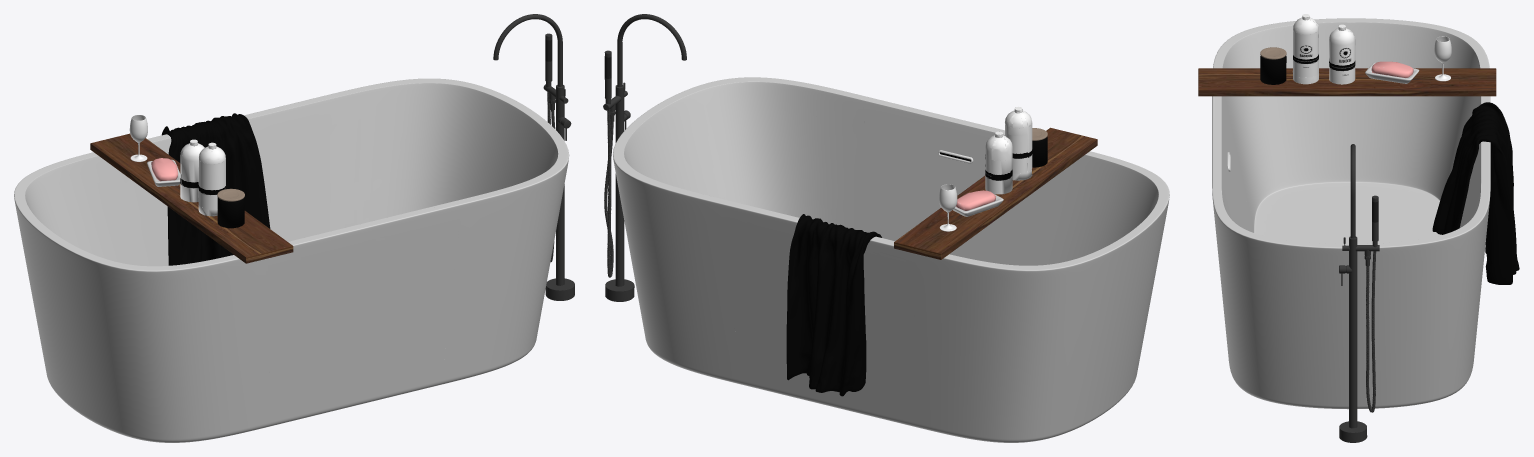
File: tub-1.glb
3 renders of one model, left to right at view 1: azimuth 30°, elevation 25°; view 2: azimuth 150°, elevation 25°; view 3: azimuth 270°, elevation 25°, orthographic. The views are drawn at different scales.
Parts seen in each view (by area): view 1: Bathtub + set_14, Toalha_8, Cube.020_0, Tub Faucet _10, Vidro.001_12, Vidro_11, Pote_5, WineGlass_13; view 2: Bathtub + set_14, Toalha_8, Cube.020_0, Tub Faucet _10, Vidro.001_12, Vidro_11, Circle.003_9, WineGlass_13, Sabonete_6; view 3: Bathtub + set_14, Toalha_8, Cube.020_0, Tub Faucet _10, Vidro.001_12, Vidro_11, Circle.003_9, Pote_5, Sabonete_6, WineGlass_13, Porta_sabonete_3.
Part boxes in pixels (x1,y1,x2,y2): Bathtub + set_14: (14,78,569,442); Toalha_8: (161,113,270,265); Cube.020_0: (90,133,293,263); Tub Faucet _10: (493,14,574,300); Vidro.001_12: (198,142,225,216); Vidro_11: (180,139,204,202); Pote_5: (217,197,244,228); WineGlass_13: (129,115,147,161); Bathtub + set_14: (613,77,1169,442); Toalha_8: (786,214,881,396); Cube.020_0: (894,127,1097,259); Tub Faucet _10: (603,14,686,301); Vidro.001_12: (1005,107,1032,180); Vidro_11: (985,131,1012,194); Circle.003_9: (604,109,613,277); WineGlass_13: (939,184,957,231); Sabonete_6: (956,190,995,210); Bathtub + set_14: (1212,18,1490,409); Toalha_8: (1432,102,1519,284); Cube.020_0: (1198,68,1496,96); Tub Faucet _10: (1339,144,1379,442); Vidro.001_12: (1292,14,1318,84); Vidro_11: (1329,24,1355,84); Circle.003_9: (1366,251,1376,412); Pote_5: (1260,56,1286,84); Sabonete_6: (1371,61,1413,77); WineGlass_13: (1434,36,1451,81); Porta_sabonete_3: (1365,62,1419,83).
Bounding box in the file's own units: 8.7 × 4.52 × 4.79.
Materials: 14 (2 with a texture image).
